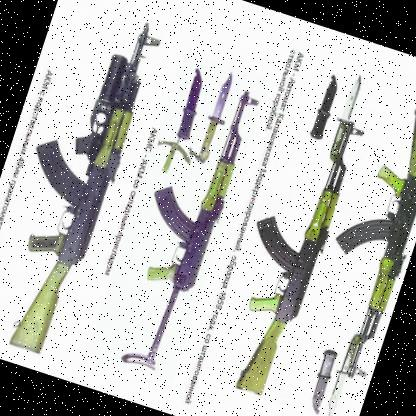rifle: (0, 0, 174, 363), (199, 93, 366, 407), (98, 70, 265, 379), (280, 79, 416, 413)
